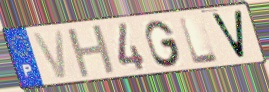4: (116, 20, 148, 74)
G: (144, 19, 184, 69)
H: (65, 22, 119, 80)
L: (177, 15, 221, 67)
V: (208, 9, 248, 61), (30, 28, 69, 81)
